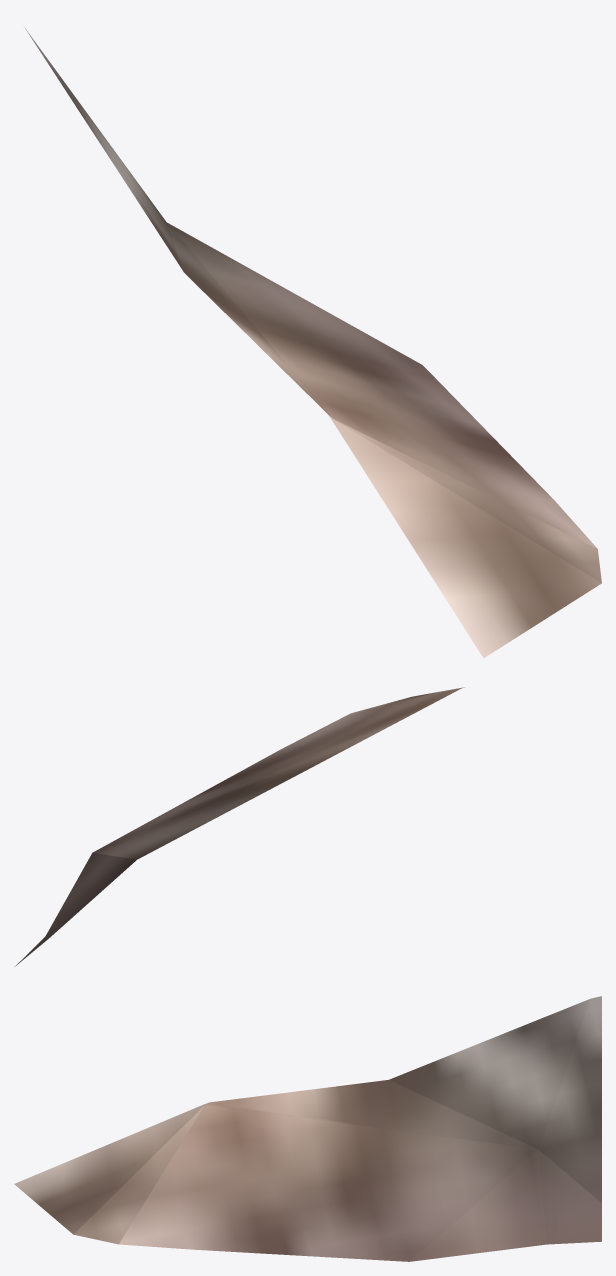
3 views of the same model, one above another, from view 1: azimuth 30°, elevation 25°; view 2: azimuth 150°, elevation 25°; view 3: azimuth 270°, elevation 25° (orthographic). The views are drawn at different scales.
Bounding box in the file's own units: 0.0249 × 0.0281 × 0.0796.
1 material, 1 textured.
